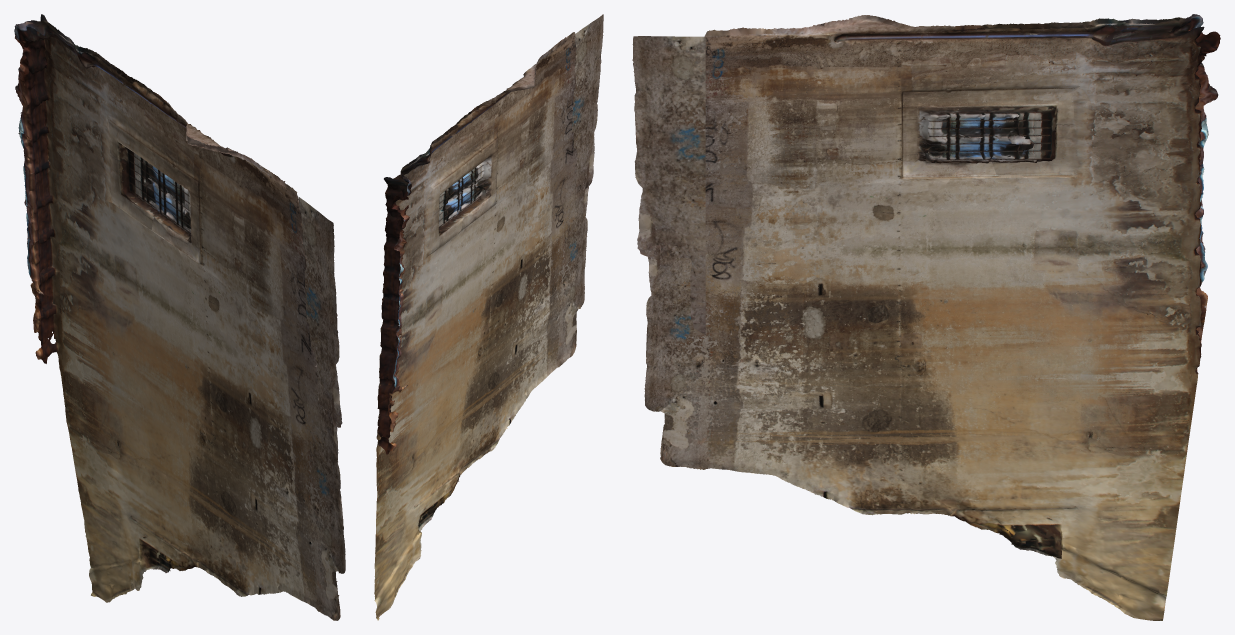
3 views of the same model, side by side, from view 1: azimuth 30°, elevation 25°; view 2: azimuth 150°, elevation 25°; view 3: azimuth 270°, elevation 25° (orthographic). The views are drawn at different scales.
Visible parts, largest first — view 1: Object_1, Object_2, Object_3; view 2: Object_1, Object_2, Object_3; view 3: Object_1, Object_2, Object_3.
Part boxes in pixels (left/top/right/bottom): Object_1: left=14, top=14, right=324, bottom=614; Object_2: left=298, top=197, right=342, bottom=427; Object_3: left=311, top=346, right=345, bottom=620; Object_1: left=374, top=32, right=576, bottom=620; Object_2: left=571, top=14, right=603, bottom=191; Object_3: left=563, top=148, right=589, bottom=362; Object_1: left=693, top=14, right=1220, bottom=620; Object_2: left=632, top=36, right=705, bottom=335; Object_3: left=644, top=245, right=693, bottom=468.
Bounding box in the file's own units: 4.82 × 37.1 × 40.74.
1 material, 1 textured.
